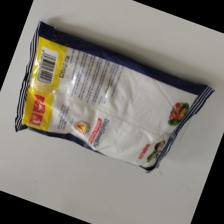Salt: (12, 20, 215, 176)
